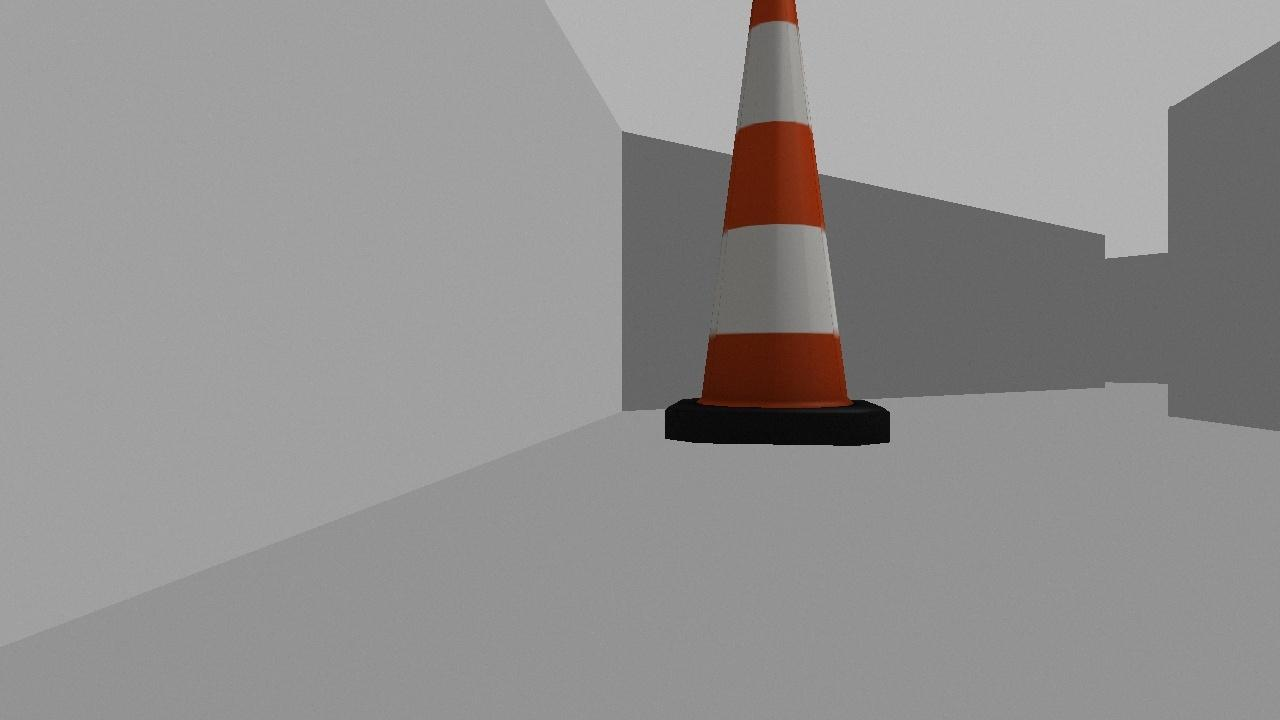cone_barrel: (659, 0, 902, 446)
